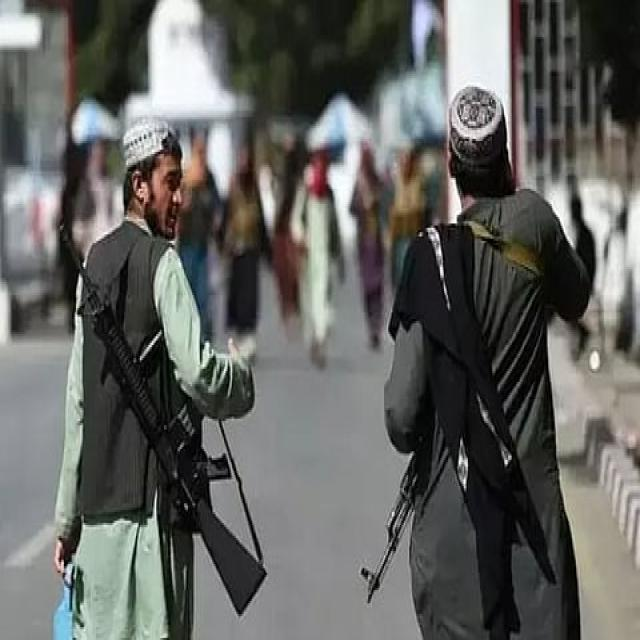Militant: (378, 67, 600, 640), (56, 89, 268, 640)
